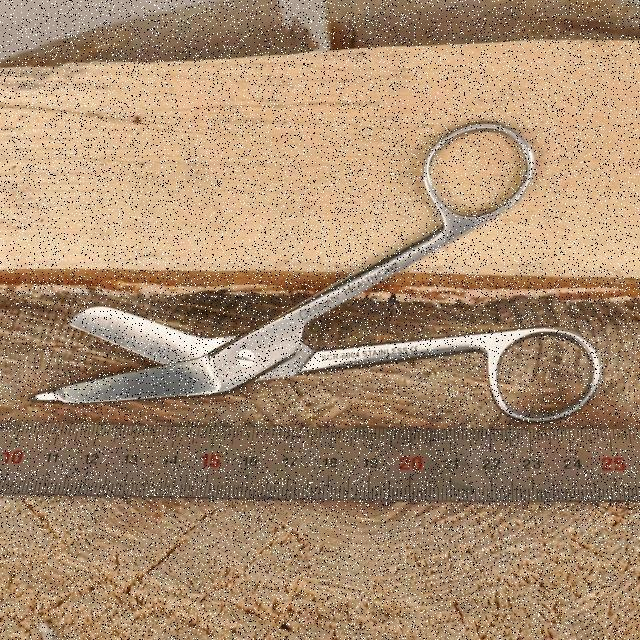scissors: (50, 113, 600, 425)
